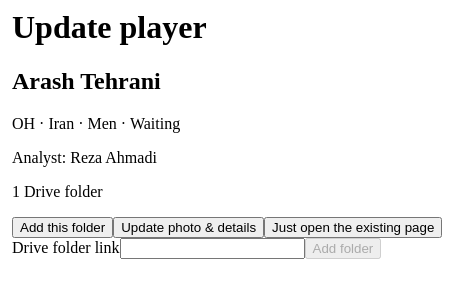
it: UpdatePlayer › tells another analyst who can change the details, and hides the photo step
The image size is (459, 289).
Click the tab "Update photo & details": (189, 227) [113,217,264,238]
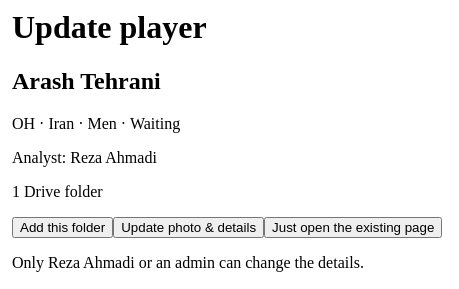
Expected: the text "Only Reza Ahmadi or an admin can change the details." is shown, [12,254,364,271]
